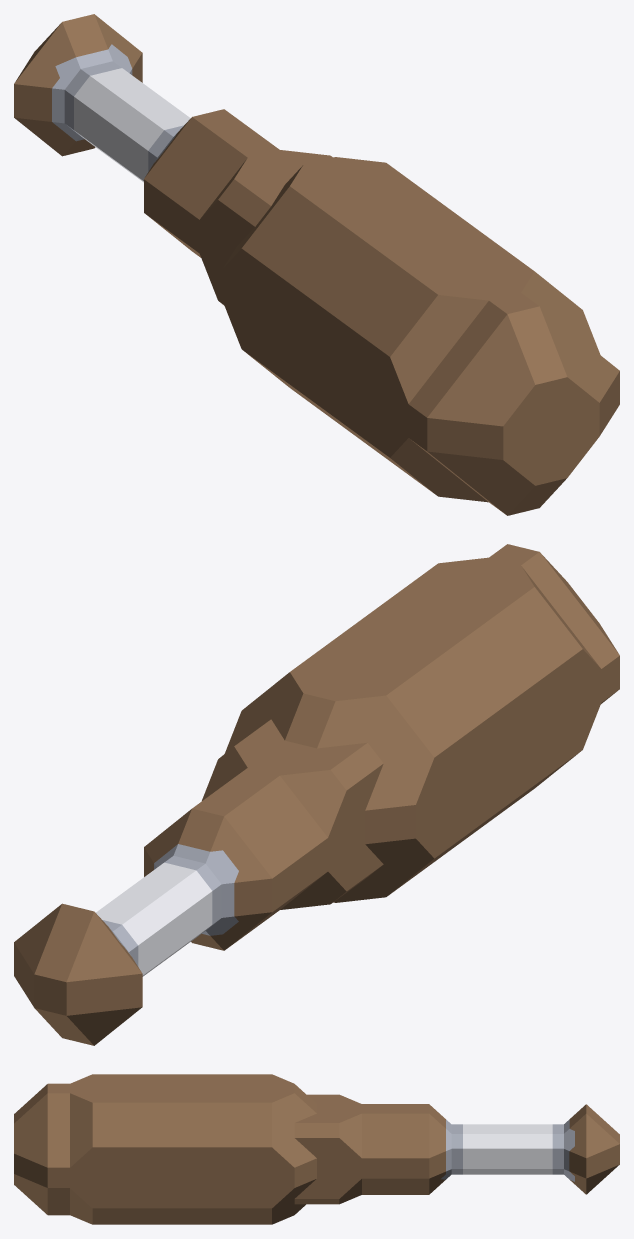
The model's file is Bat.glb.
3 renders of one model, top to bottom at view 1: azimuth 30°, elevation 25°; view 2: azimuth 150°, elevation 25°; view 3: azimuth 270°, elevation 25°, orthographic. The views are drawn at different scales.
Parts seen in each view (by area): view 1: pl0; view 2: pl0; view 3: pl0.
Part boxes in pixels (x1,y1,x2,y2): pl0: [14, 14, 619, 515]; pl0: [14, 544, 619, 1045]; pl0: [14, 1074, 619, 1224].
Bounding box in the file's own units: 0.6 × 0.6 × 2.7.
Materials: 1 (1 with a texture image).
